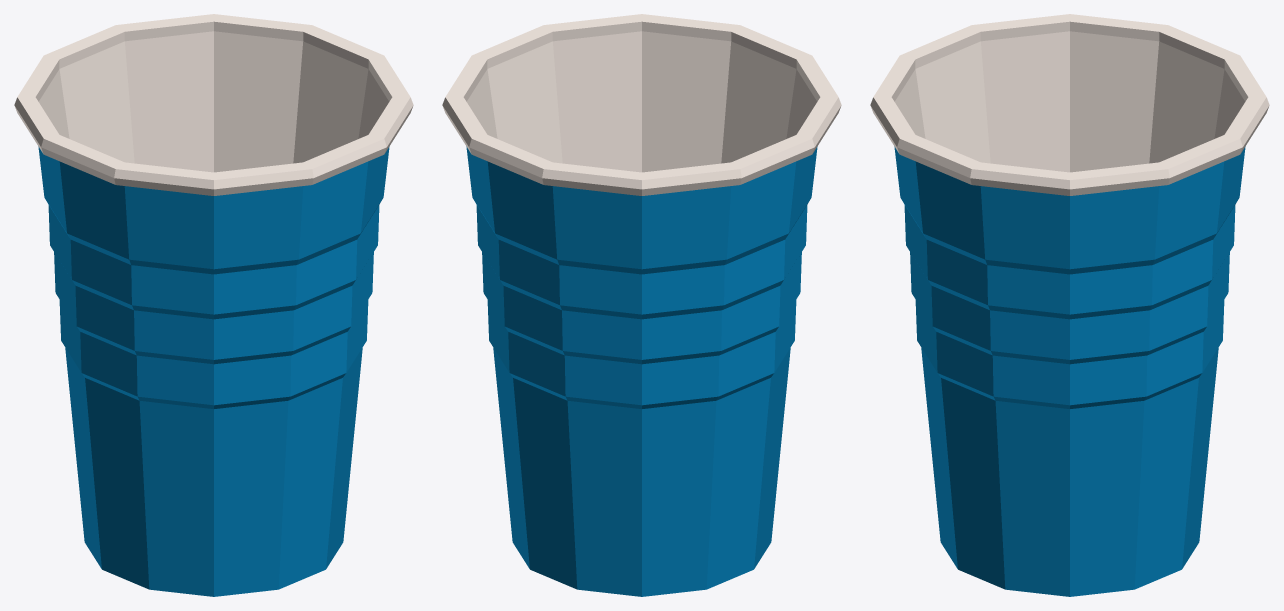
File: cup_blue.fbx
3 renders of one model, left to right at view 1: azimuth 30°, elevation 25°; view 2: azimuth 150°, elevation 25°; view 3: azimuth 270°, elevation 25°, orthographic.
Visible parts, largest first — view 1: Cylinder.007; view 2: Cylinder.007; view 3: Cylinder.007.
Boxes of the visible parts, x1,y1,x2,y2 form: Cylinder.007: (14,14,413,596); Cylinder.007: (442,14,841,596); Cylinder.007: (870,14,1269,596).
Size of the model in its own units: 601 by 739 by 601.
